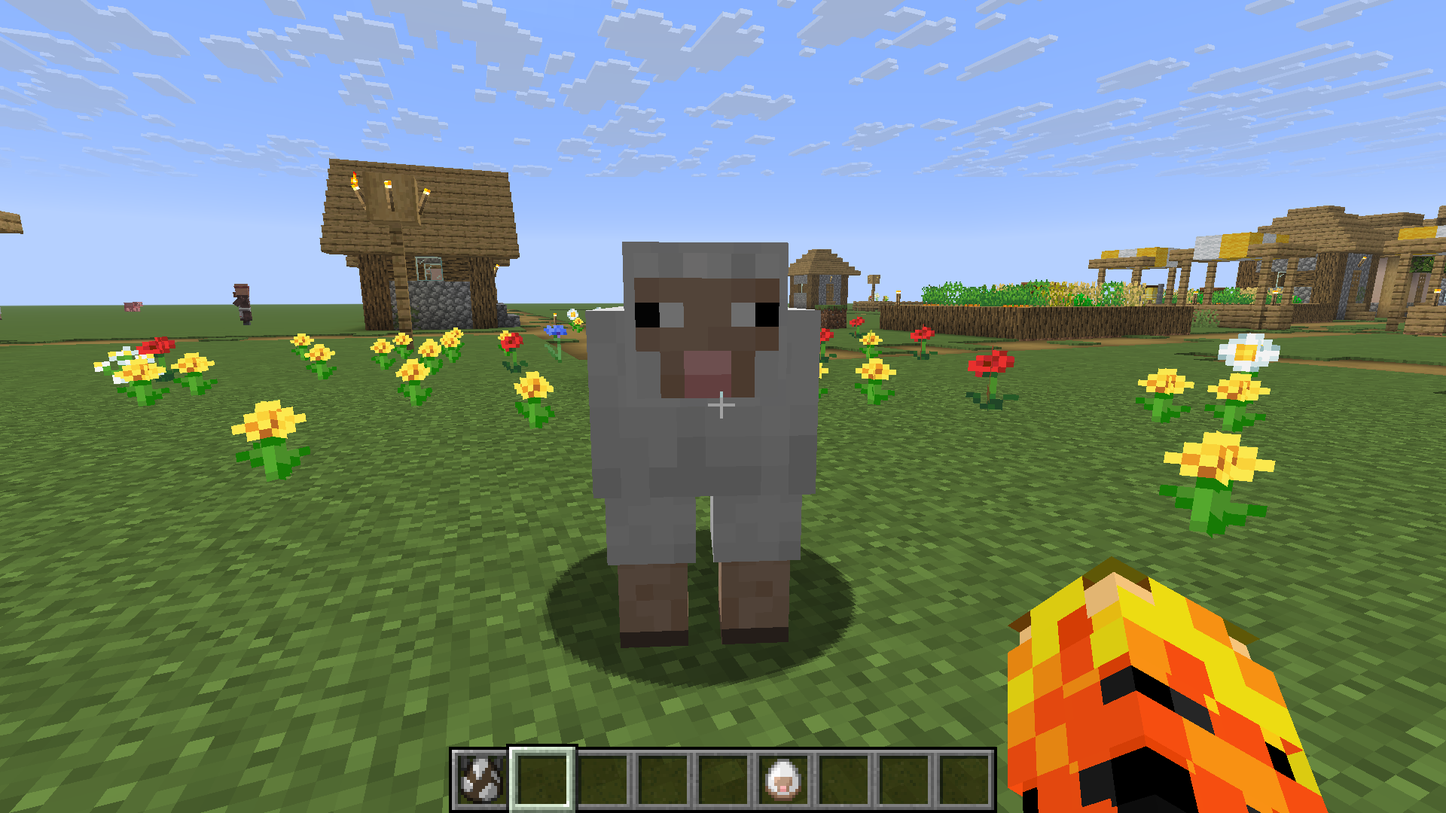Sheep: (572, 237, 836, 667)
Torch: (348, 167, 372, 218), (414, 178, 433, 219), (381, 175, 400, 215)
flower: (1157, 434, 1282, 548), (233, 396, 340, 511), (940, 327, 1040, 438), (95, 338, 207, 402), (1124, 362, 1200, 429), (1200, 372, 1283, 431), (851, 345, 900, 429), (289, 329, 343, 389), (1214, 333, 1283, 372), (530, 313, 578, 369), (488, 333, 540, 377), (905, 321, 944, 364)
villager: (224, 277, 264, 331)
